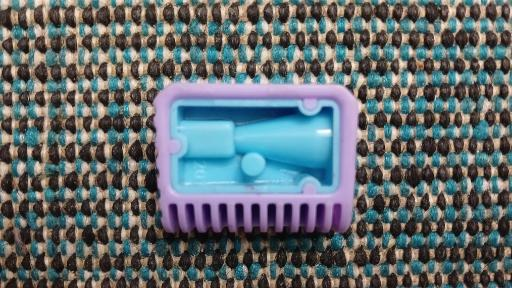Sharpener: (153, 83, 357, 233)
